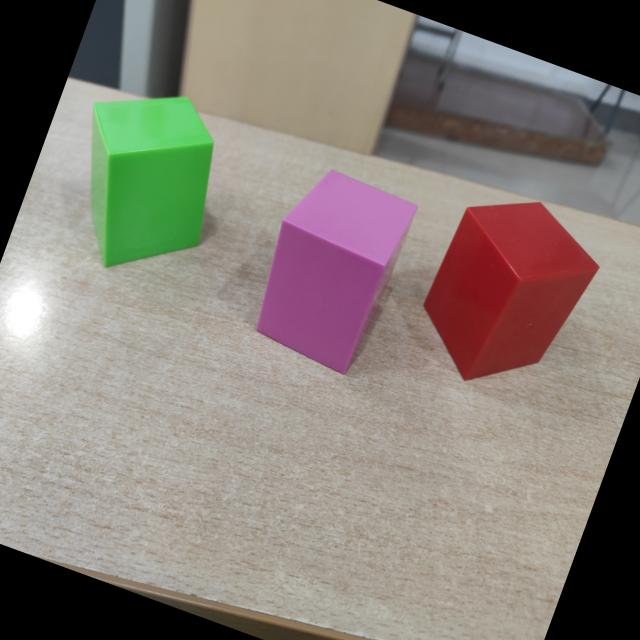green: (89, 97, 214, 269)
pink: (254, 171, 418, 375)
red: (423, 203, 599, 383)
